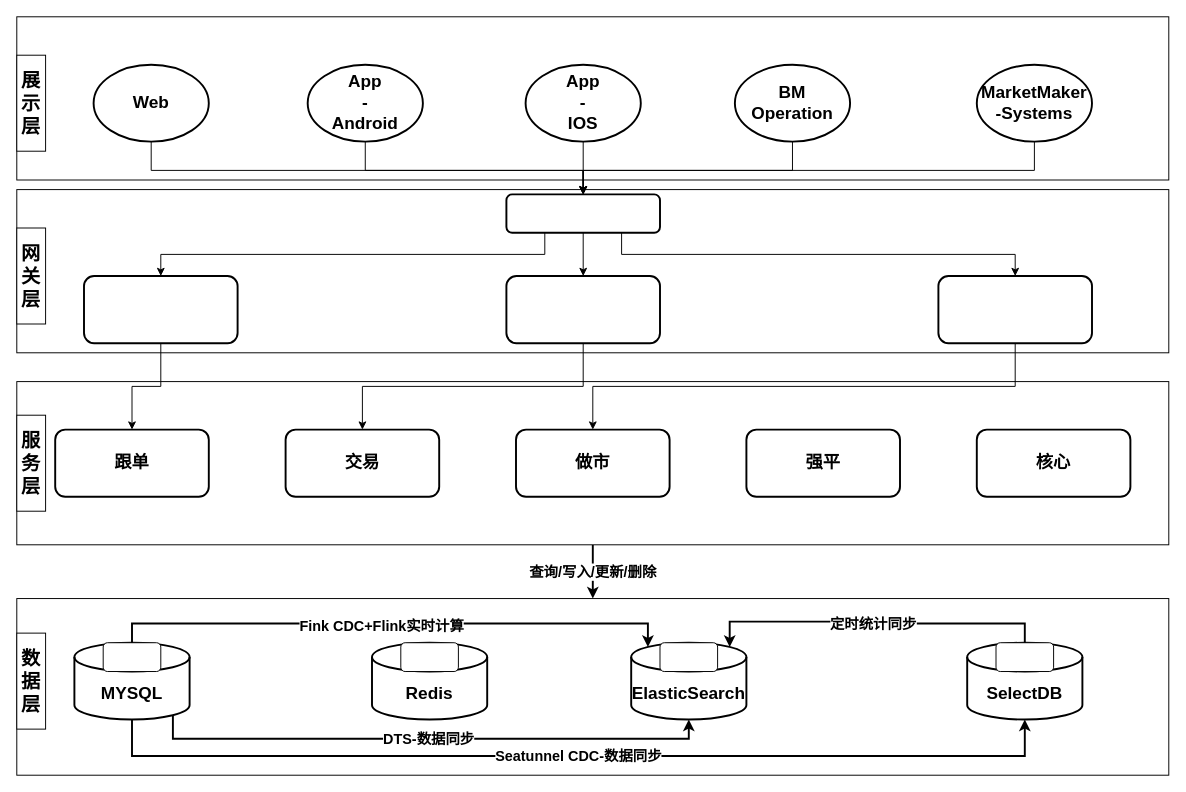
Some shapes in this 1186 by 792 pixel diagram are drawn without their labels. The shapes that lost their labels are listed below. From the top down, each one's centre as x and y in pixels, then its label:
At point 582,213: "Nginx".
At point 160,309: "Gateway-Follower".
At point 582,309: "Gateway-User".
At point 1014,309: "Gateway-Maker".
At point 131,657: "事务".
At point 429,657: "缓存".
At point 688,657: "查询".
At point 1024,657: "统计".
